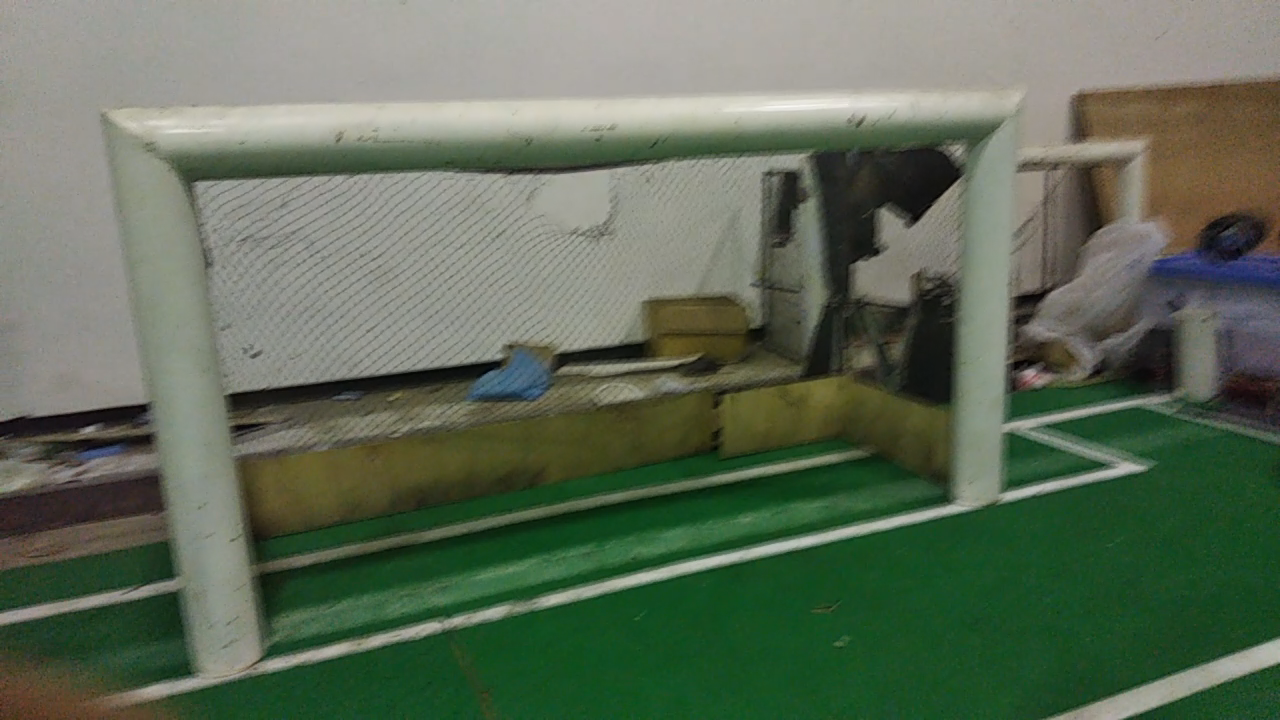gawang: (81, 88, 1030, 693)
